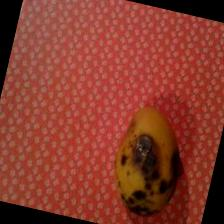Mango Overripe: (101, 97, 198, 222)
